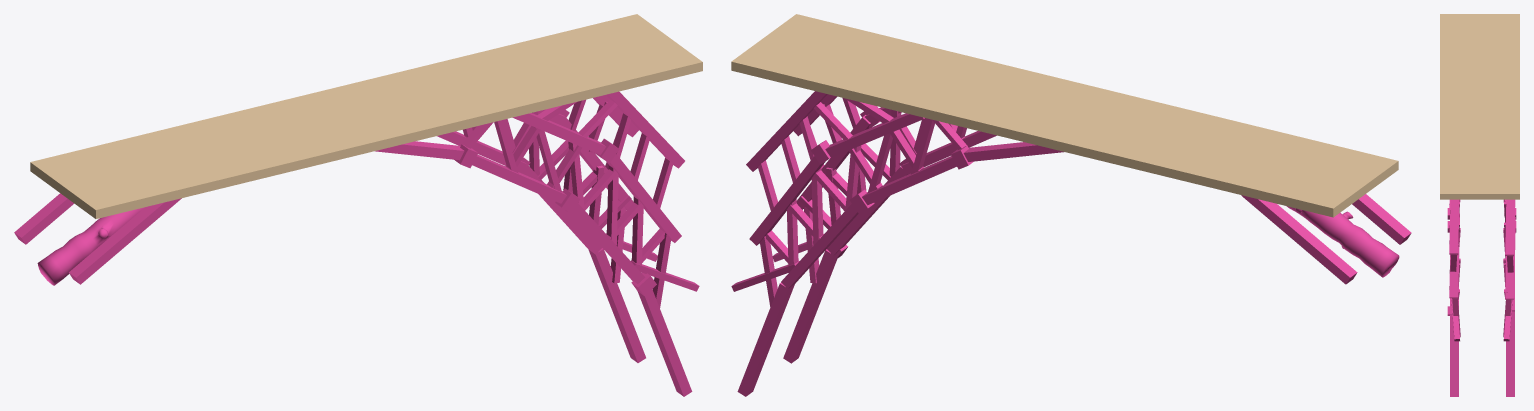
Rendered from PONT-TOUR.fbx.
3 views of the same model, side by side, from view 1: azimuth 30°, elevation 25°; view 2: azimuth 150°, elevation 25°; view 3: azimuth 270°, elevation 25° (orthographic). The views are drawn at different scales.
Visible parts, largest first — view 1: Cube.001, tronc_grand_low.002; view 2: Cube.001, tronc_grand_low.002; view 3: Cube.001, tronc_grand_low.002.
Part boxes in pixels (<box>): Cube.001: <box>30,14,702,218</box>; tronc_grand_low.002: <box>14,91,699,396</box>; Cube.001: <box>731,14,1398,217</box>; tronc_grand_low.002: <box>731,91,1411,396</box>; Cube.001: <box>1440,14,1519,199</box>; tronc_grand_low.002: <box>1447,199,1516,396</box>.
Bounding box in the file's own units: 2.5 × 14.11 × 7.11.
